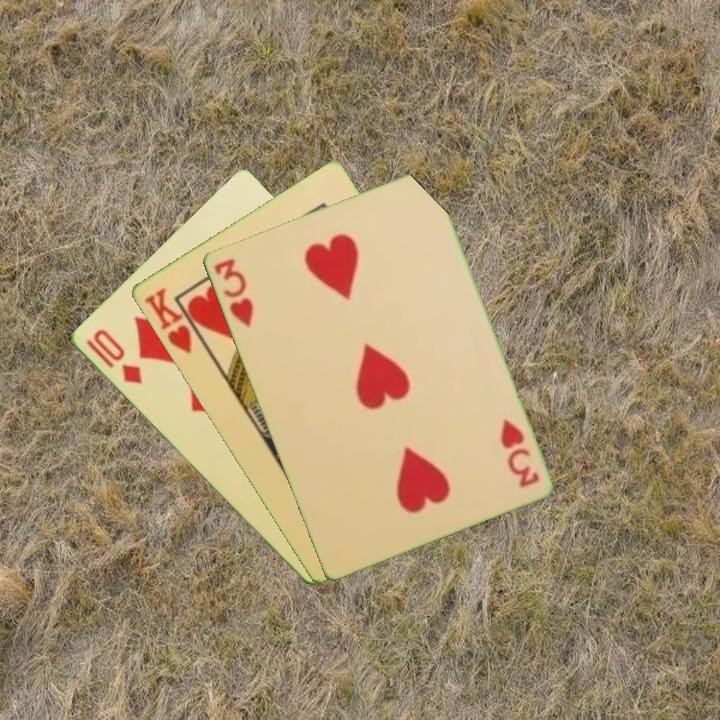10d: (89, 325, 145, 388)
3h: (209, 255, 256, 330), (496, 415, 542, 491)
Kh: (140, 283, 208, 356)
